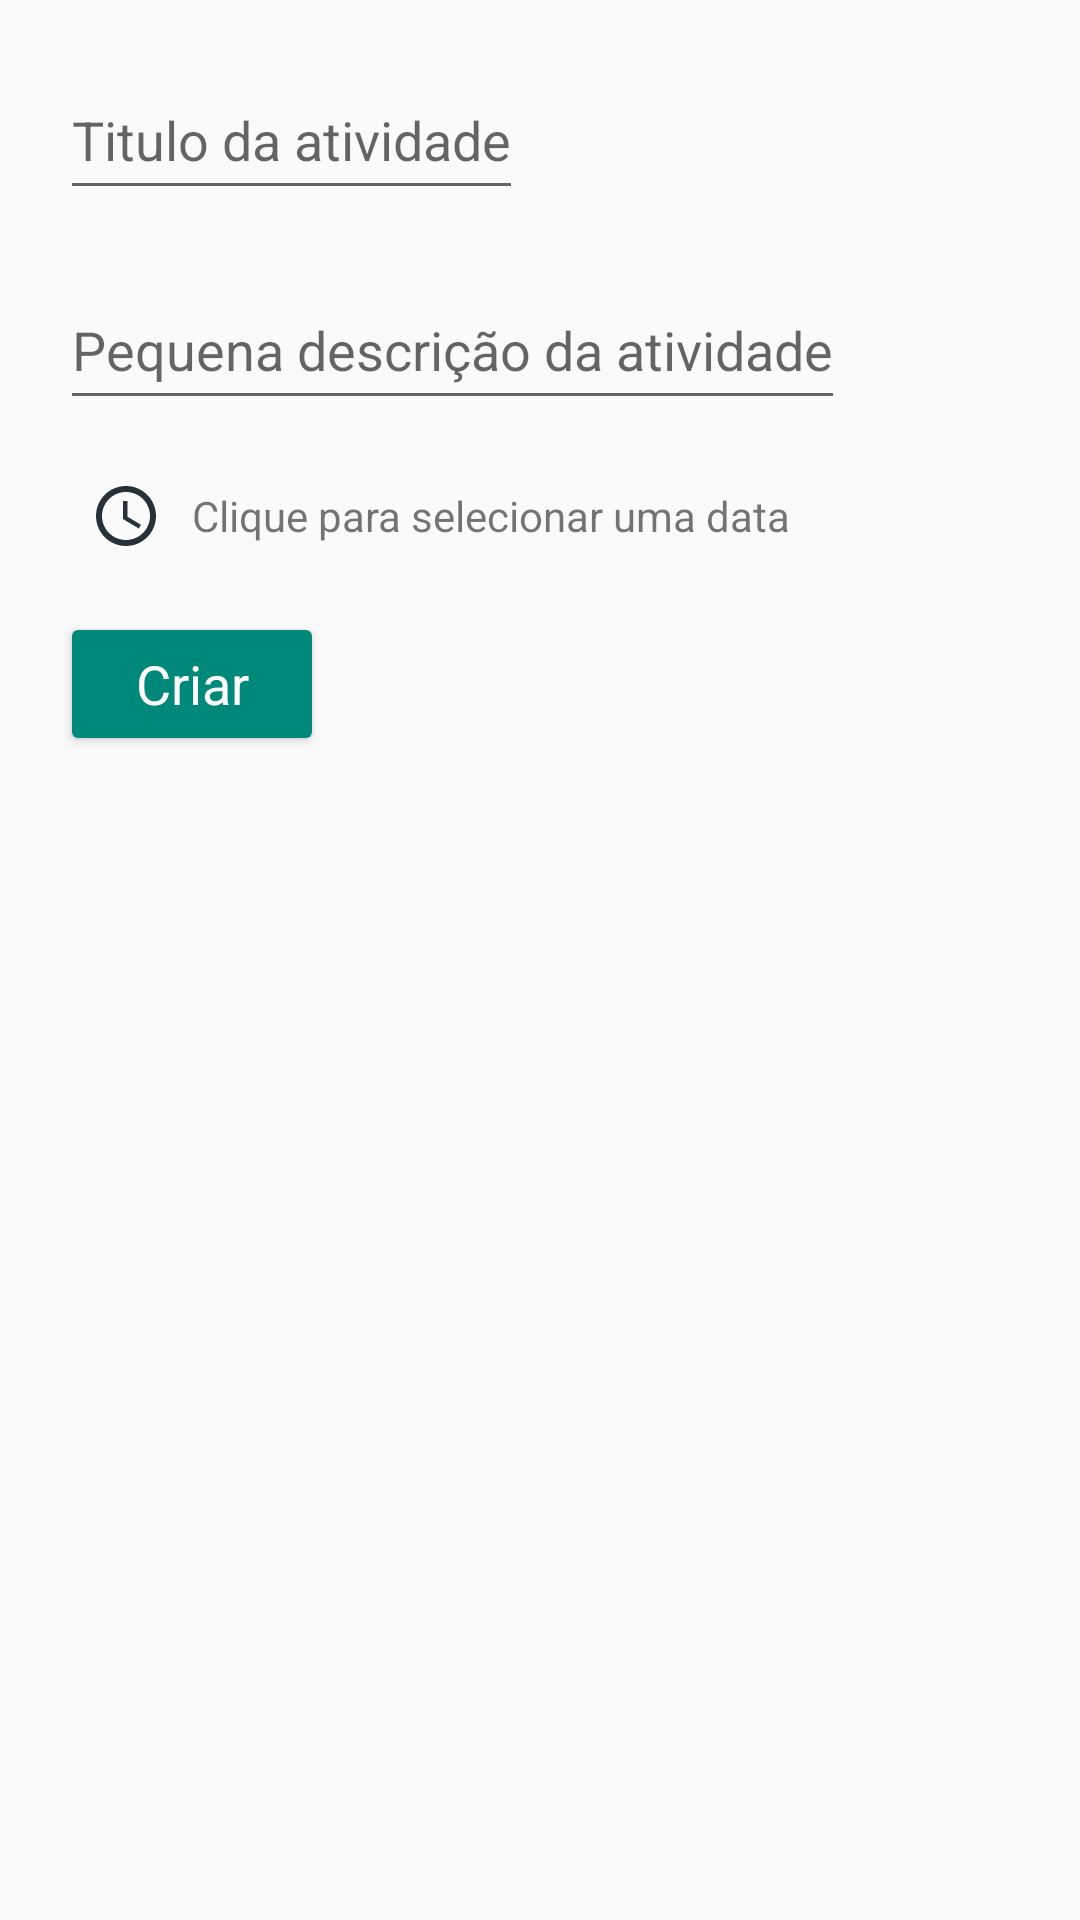

Icon click points for this 1080 × 1920 phone screenshot, format (x,y):
Deadline: (126,516)
